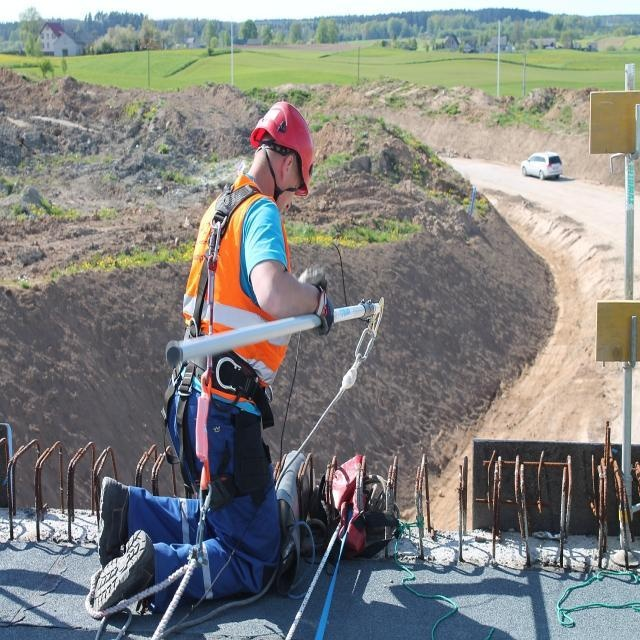Arnes_seguridad: (157, 178, 272, 557)
